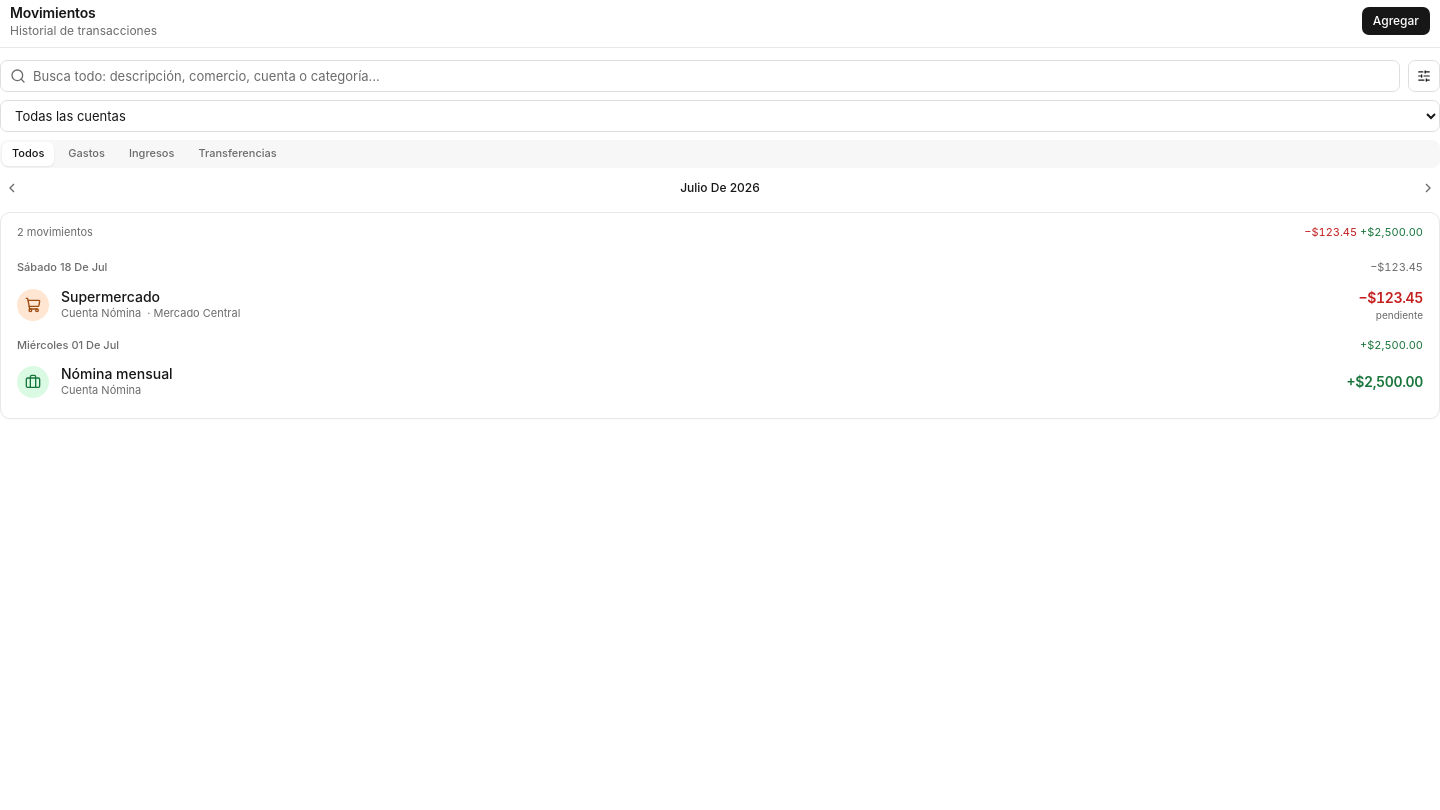
it: TransactionsPage › manages focus, keyboard dismissal, and scroll lock for the transaction modal
Click the button "Agregar".
click(1396, 20)  # box [1362,6,1430,34]
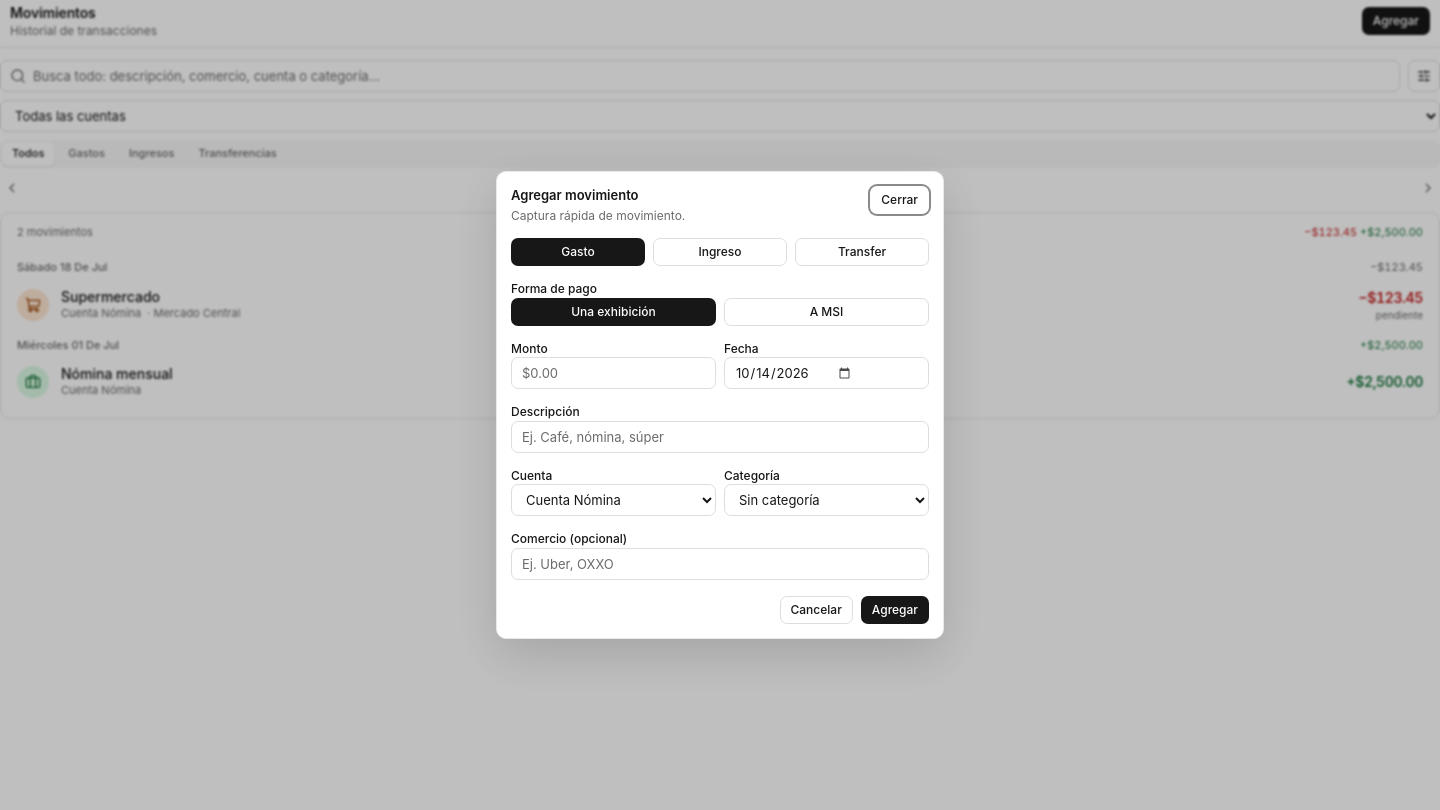
Press Shift+Tab
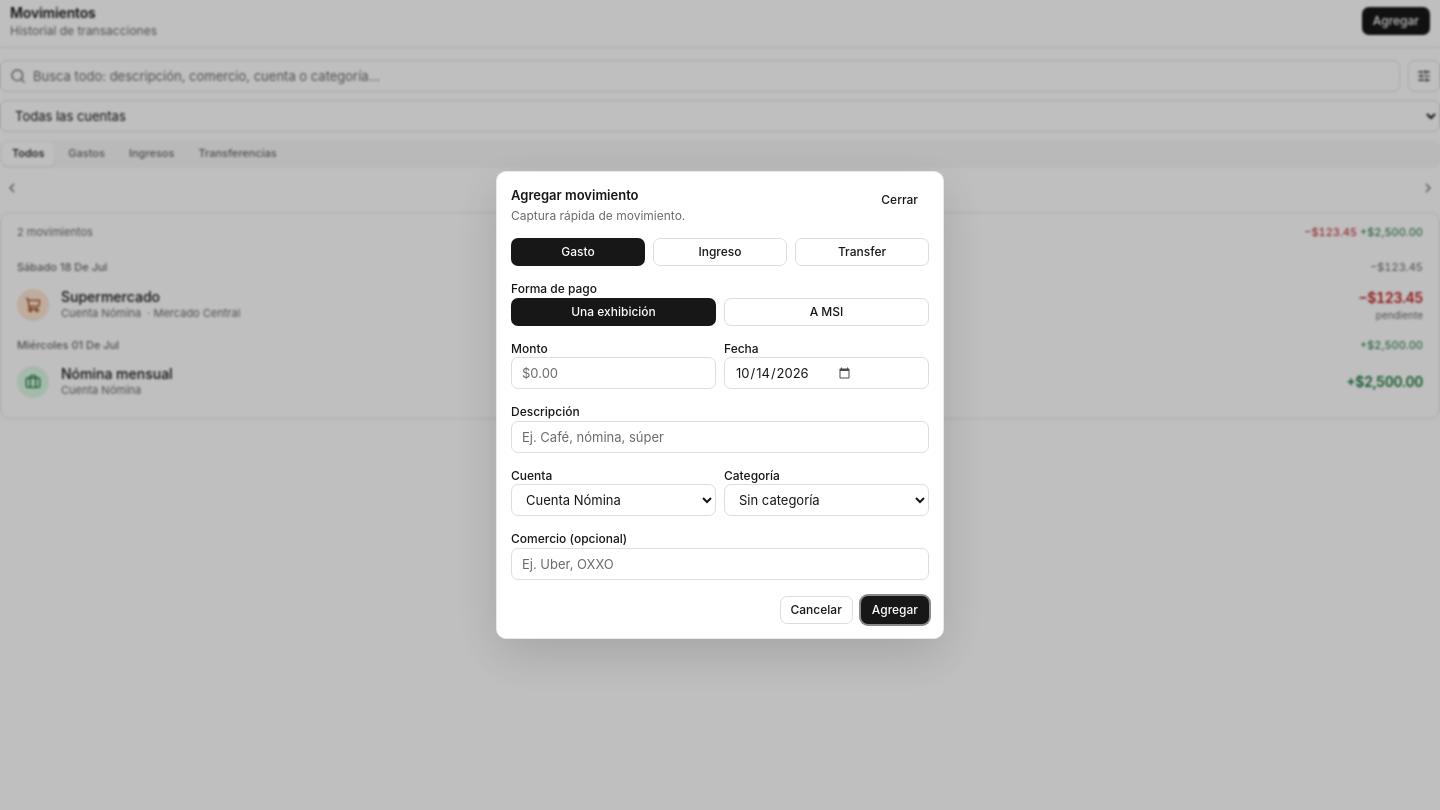
Press Tab
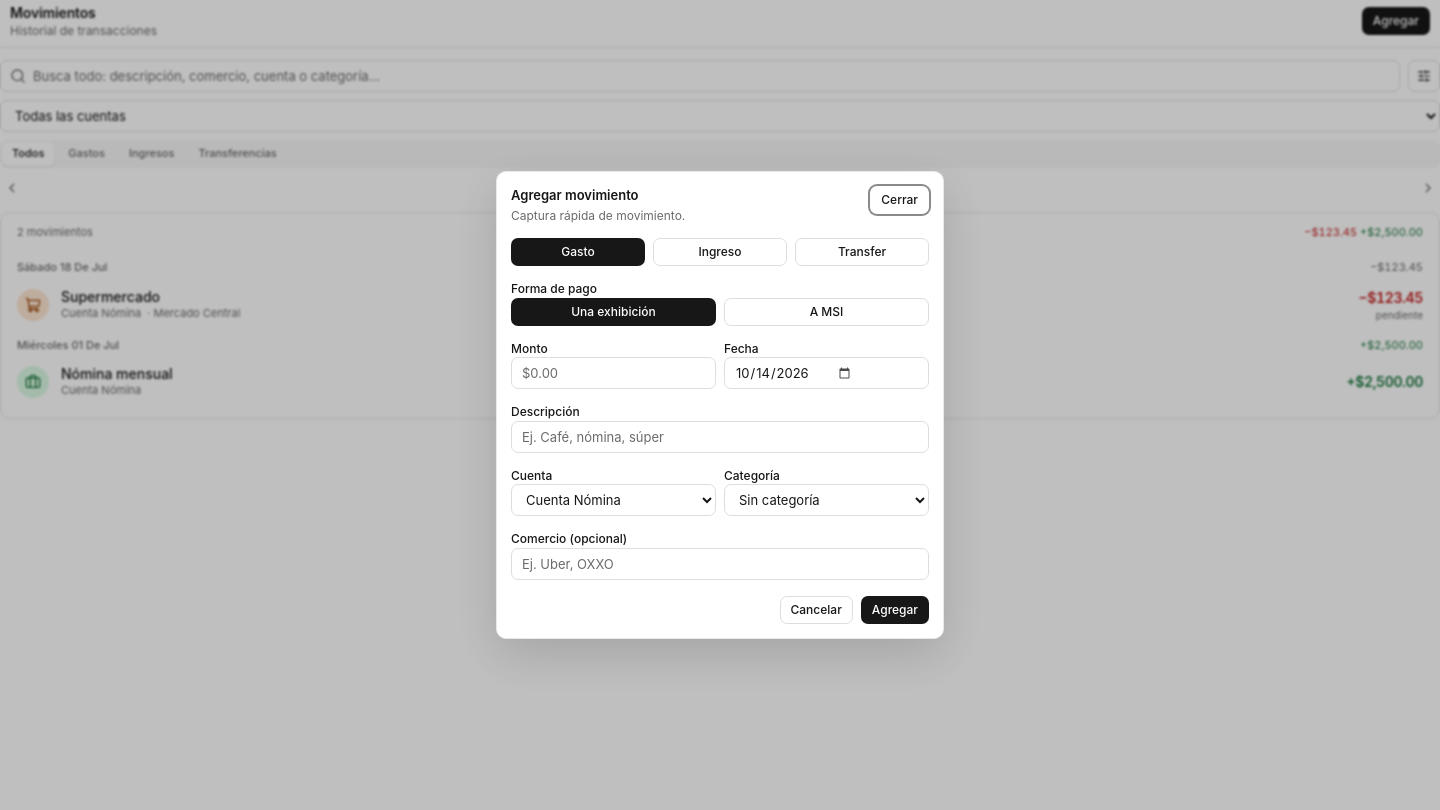
Press Escape
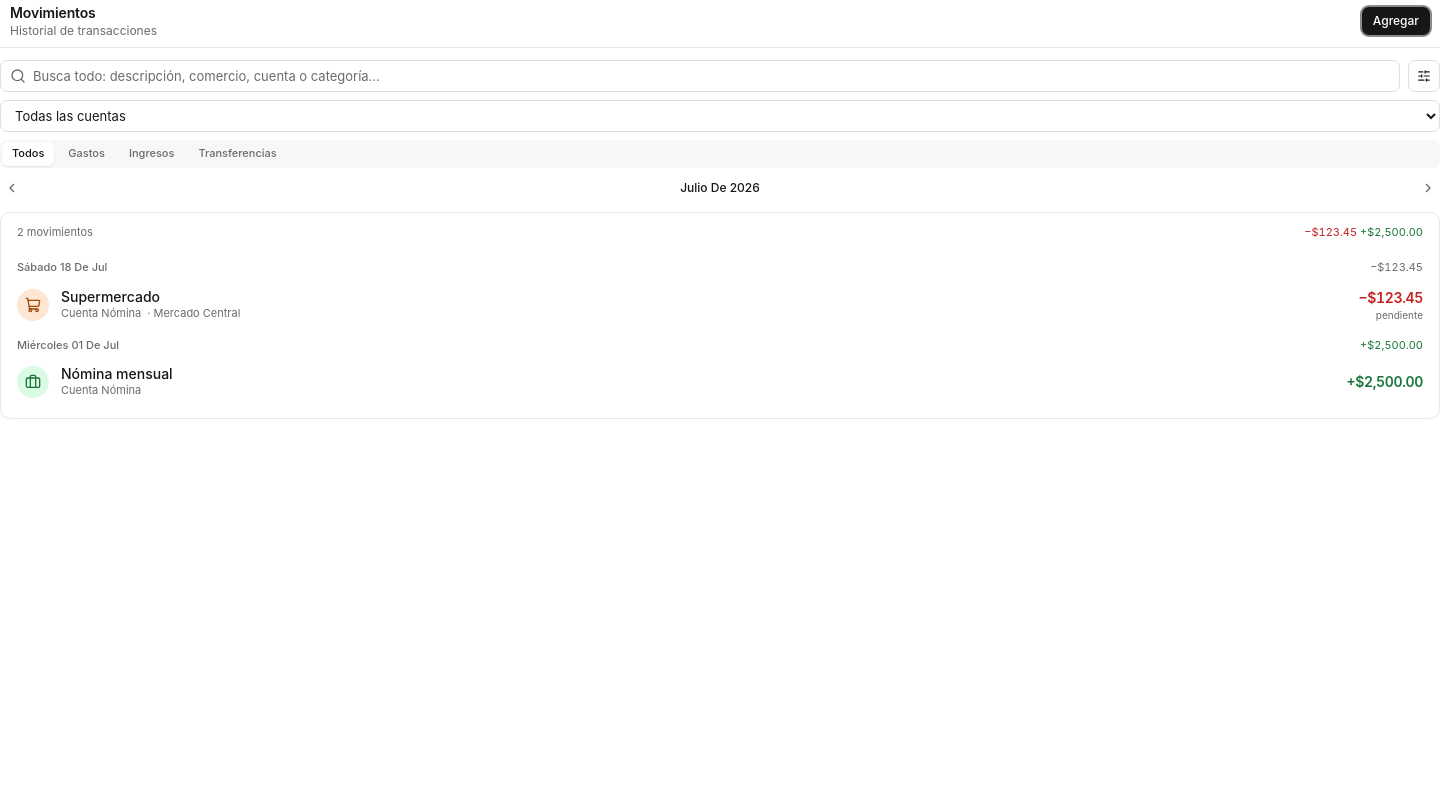
Check: the heading "Agregar movimiento" is gone
